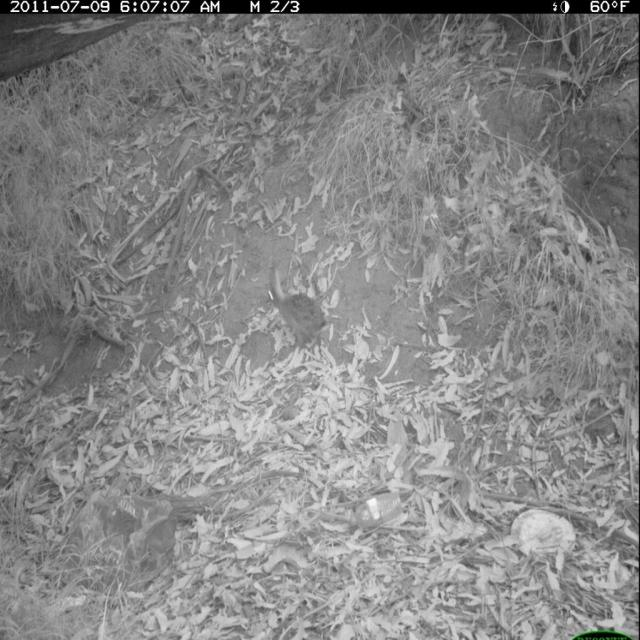rabbit: (261, 263, 333, 360)
